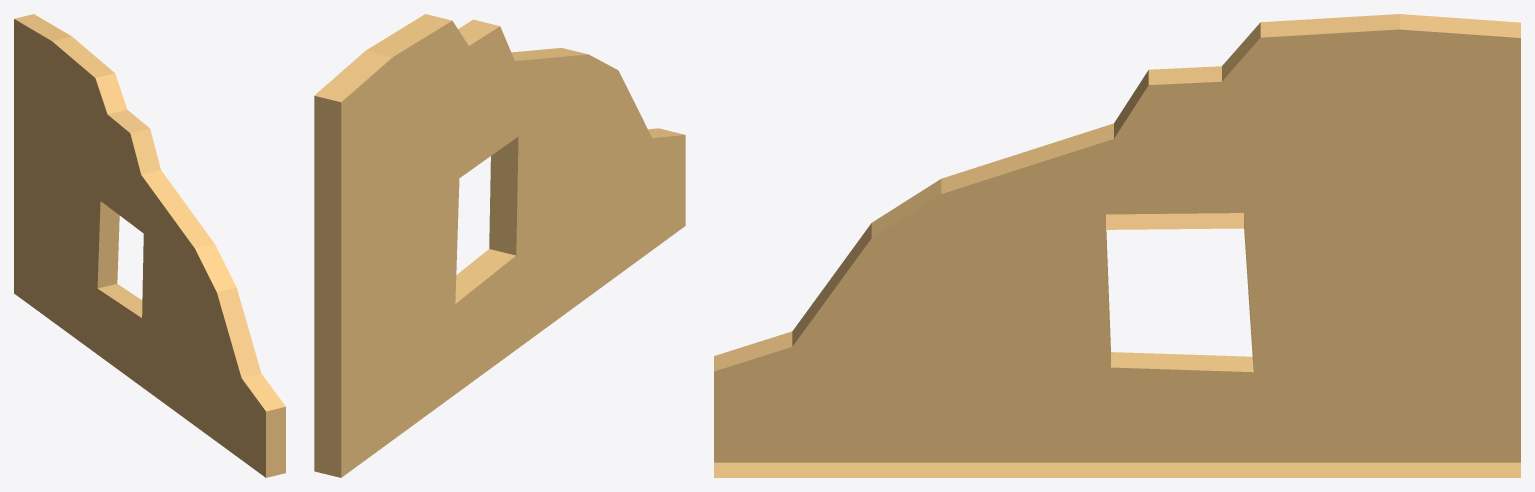
3 views of the same model, side by side, from view 1: azimuth 30°, elevation 25°; view 2: azimuth 150°, elevation 25°; view 3: azimuth 270°, elevation 25° (orthographic). The views are drawn at different scales.
Parts seen in each view (by area): view 1: Plane001; view 2: Plane001; view 3: Plane001.
Boxes of the visible parts, x1,y1,x2,y2 form: Plane001: [14, 14, 285, 477]; Plane001: [314, 14, 685, 477]; Plane001: [714, 14, 1520, 477].
Size of the model in its own units: 0.9207 by 12.44 by 20.29.
